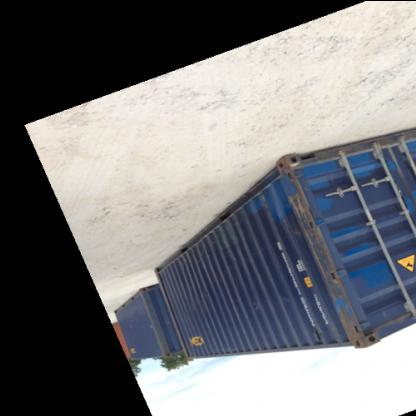Damage: (292, 192, 326, 256), (314, 258, 346, 322), (339, 308, 368, 350), (245, 296, 267, 316)
